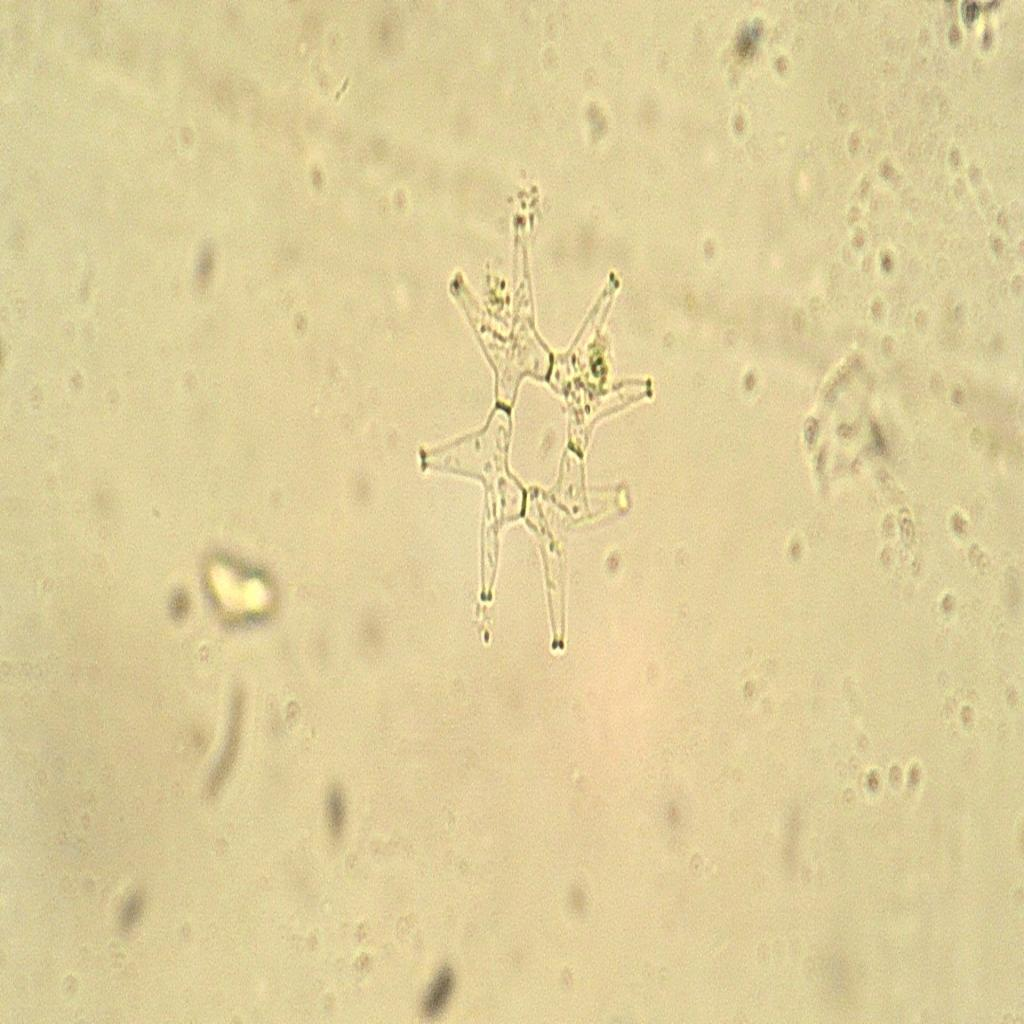Pediastrum_75TH: (384, 191, 694, 695)
